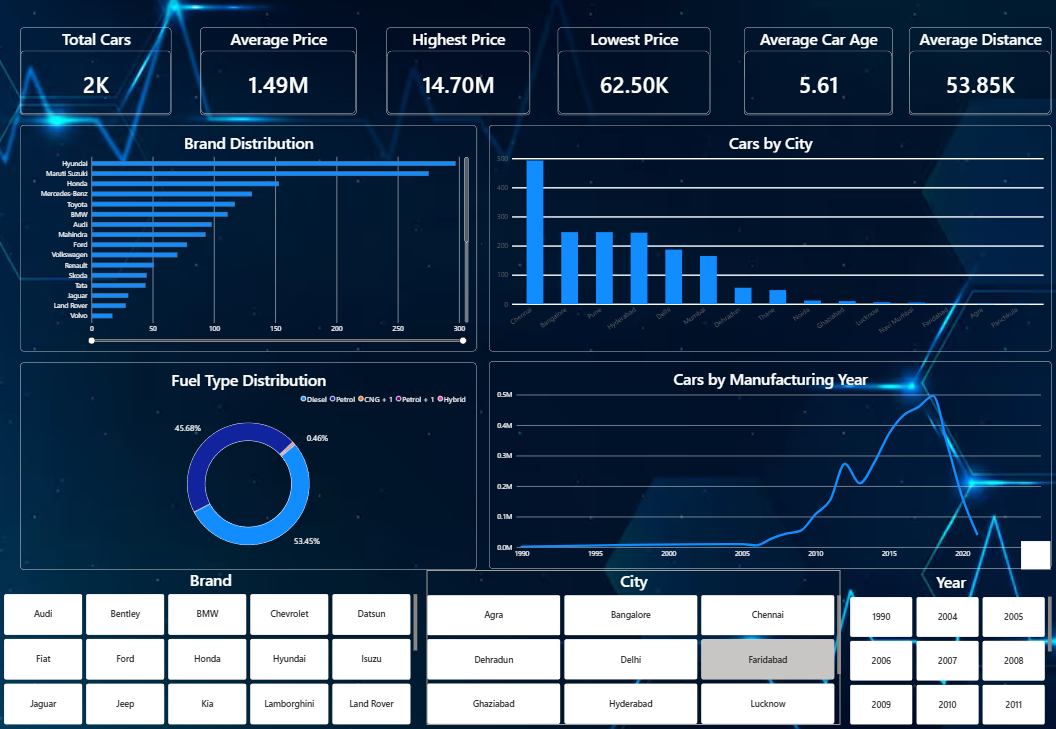

This screenshot's page, from the dashboard's own definition file:
{"tool":"powerbi","page":{"name":"Page 1","canvas":[2300,1600],"ordinal":0},"visuals":[{"type":"cardVisual","title":"Total Cars","fields":{"Data":["Final_Car_Price_Prediction.Total Cars"]},"box":[56.3,80.4,324.4,187.7],"z":0},{"type":"cardVisual","title":"Highest Price","fields":{"Data":["Final_Car_Price_Prediction.Highest Price"]},"box":[841.8,80.4,308.3,187.7],"z":1000},{"type":"cardVisual","title":"Average Price","fields":{"Data":["Final_Car_Price_Prediction.Average Price"]},"box":[442.4,80.4,335.1,187.7],"z":2000},{"type":"cardVisual","title":"Lowest Price","fields":{"Data":["Final_Car_Price_Prediction.Lowest Price"]},"box":[1209.1,80.4,327.1,187.7],"z":3000},{"type":"cardVisual","title":"Average Car Age","fields":{"Data":["Avg(Final_Car_Price_Prediction.Car Age)"]},"box":[1608.6,80.4,319,187.7],"z":4000},{"type":"cardVisual","title":"Average Distance","fields":{"Data":["Final_Car_Price_Prediction.Average Distance"]},"box":[1962.5,80.4,305.6,187.7],"z":5000},{"type":"clusteredBarChart","title":"Brand Distribution","fields":{"Category":["Final_Car_Price_Prediction.brand"],"Y":["CountNonNull(Final_Car_Price_Prediction.brand)"]},"box":[56.3,289.5,978.6,485.3],"z":6000},{"type":"donutChart","title":"Fuel Type Distribution","fields":{"Category":["Final_Car_Price_Prediction.fuel_type"],"Y":["CountNonNull(Final_Car_Price_Prediction.fuel_type)"]},"box":[56.3,798.9,978.6,445],"z":7000},{"type":"columnChart","title":"Cars by City","fields":{"Category":["Final_Car_Price_Prediction.city"],"Y":["CountNonNull(Final_Car_Price_Prediction.city)"]},"box":[1061.7,289.5,1206.4,485.3],"z":8000},{"type":"lineChart","title":"Cars by Manufacturing Year","fields":{"Category":["Final_Car_Price_Prediction.year"],"Y":["Sum(Final_Car_Price_Prediction.year)"]},"box":[1061.7,796.3,1206.4,445],"z":9000},{"type":"advancedSlicerVisual","title":"Brand","fields":{"Values":["Final_Car_Price_Prediction.brand"]},"box":[21.6,1240.5,886.5,335.1],"z":10000},{"type":"advancedSlicerVisual","title":"City","fields":{"Values":["Final_Car_Price_Prediction.city"]},"box":[927,1243.2,889.2,332.4],"z":11000},{"type":"advancedSlicerVisual","title":"Year","fields":{"Values":["Final_Car_Price_Prediction.year"]},"box":[1835.1,1245.9,432.4,329.7],"z":12000}]}

Visuals, with their boxes in screenshot pixels (x1, y1, x2, y2), scaled from the page's 2300x1600 canvas onto the 1056x729 screenshot:
"Total Cars" cardVisual: [x1=26, y1=37, x2=175, y2=122]
"Highest Price" cardVisual: [x1=386, y1=37, x2=528, y2=122]
"Average Price" cardVisual: [x1=203, y1=37, x2=357, y2=122]
"Lowest Price" cardVisual: [x1=555, y1=37, x2=705, y2=122]
"Average Car Age" cardVisual: [x1=739, y1=37, x2=885, y2=122]
"Average Distance" cardVisual: [x1=901, y1=37, x2=1041, y2=122]
"Brand Distribution" clusteredBarChart: [x1=26, y1=132, x2=475, y2=353]
"Fuel Type Distribution" donutChart: [x1=26, y1=364, x2=475, y2=567]
"Cars by City" columnChart: [x1=487, y1=132, x2=1041, y2=353]
"Cars by Manufacturing Year" lineChart: [x1=487, y1=363, x2=1041, y2=566]
"Brand" advancedSlicerVisual: [x1=10, y1=565, x2=417, y2=718]
"City" advancedSlicerVisual: [x1=426, y1=566, x2=834, y2=718]
"Year" advancedSlicerVisual: [x1=843, y1=568, x2=1041, y2=718]
